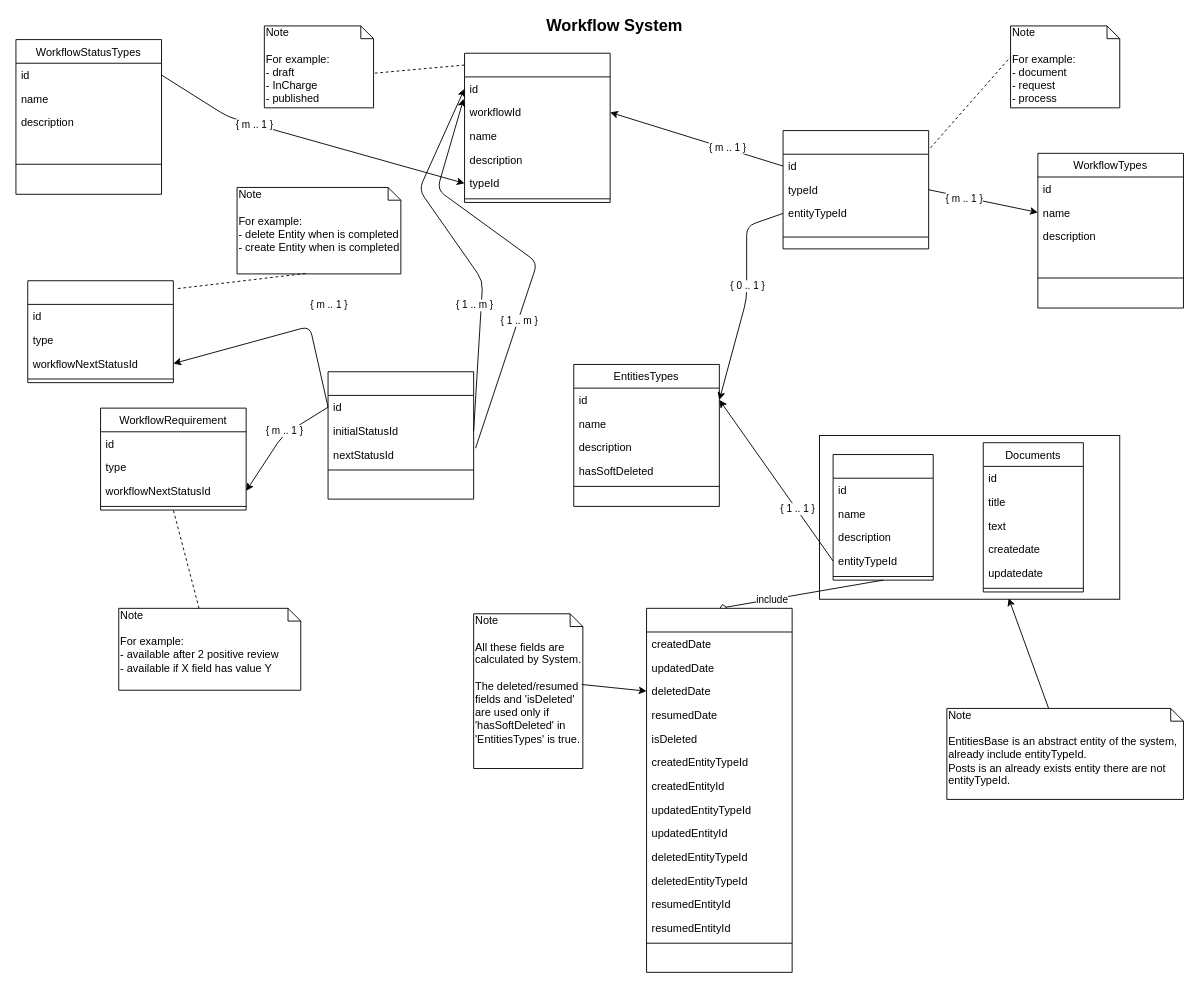
Image size: 1199x988. Some labels were removed from this diagram. The box of each missing label's shape, as (x1, y1, x2, y2) in pixels:
EntitiesBase: (832, 454, 933, 580)
events data: (646, 607, 792, 972)
WorkflowActions: (27, 280, 173, 383)
WorkflowNextStatuses: (327, 371, 474, 499)
Workflows: (782, 130, 929, 249)
WorkflowStatuses: (464, 52, 610, 202)
